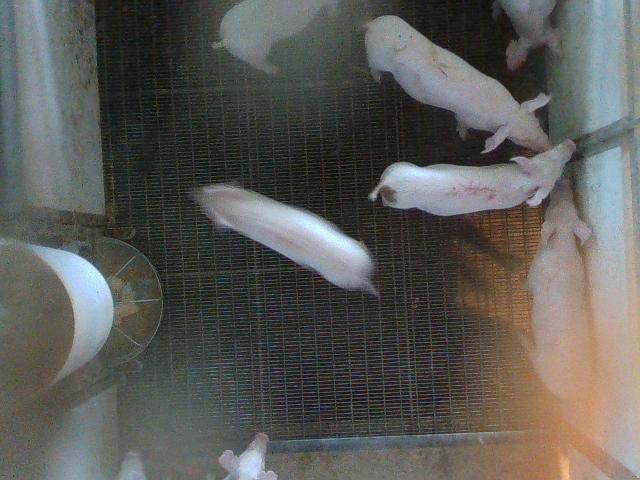pig-4: (192, 184, 378, 296)
pig-5: (369, 140, 575, 216)
